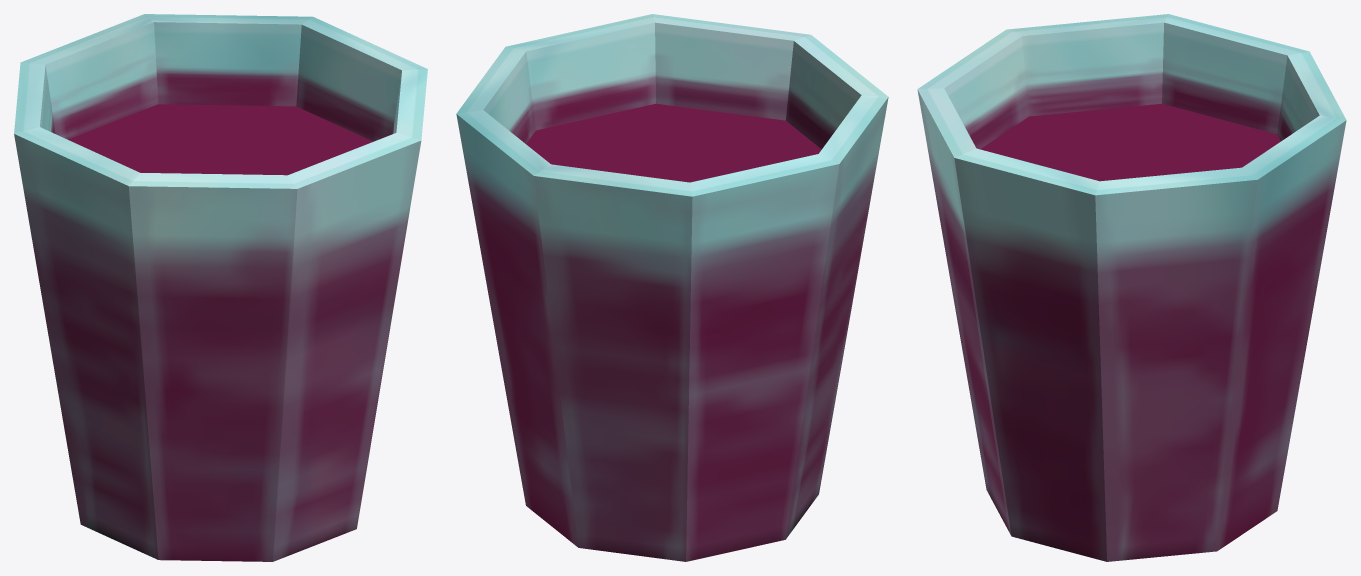
File: Copo cheio.fbx
The picture shows the model from 3 angles, left to right: view 1: azimuth 30°, elevation 25°; view 2: azimuth 150°, elevation 25°; view 3: azimuth 270°, elevation 25°; orthographic projection.
Parts seen in each view (by area): view 1: Copo cheio; view 2: Copo cheio; view 3: Copo cheio.
Boxes of the visible parts, x1,y1,x2,y2 form: Copo cheio: (14, 14, 427, 561); Copo cheio: (456, 14, 888, 561); Copo cheio: (917, 14, 1346, 561).
Bounding box in the file's own units: 62.35 × 63.89 × 62.35.
